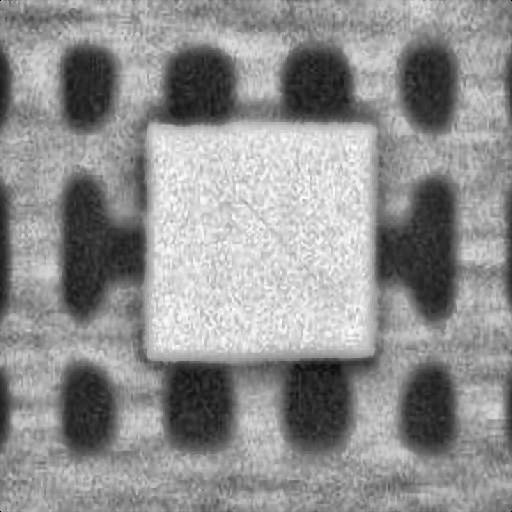DIE_CRACK: (361, 131, 512, 211)
